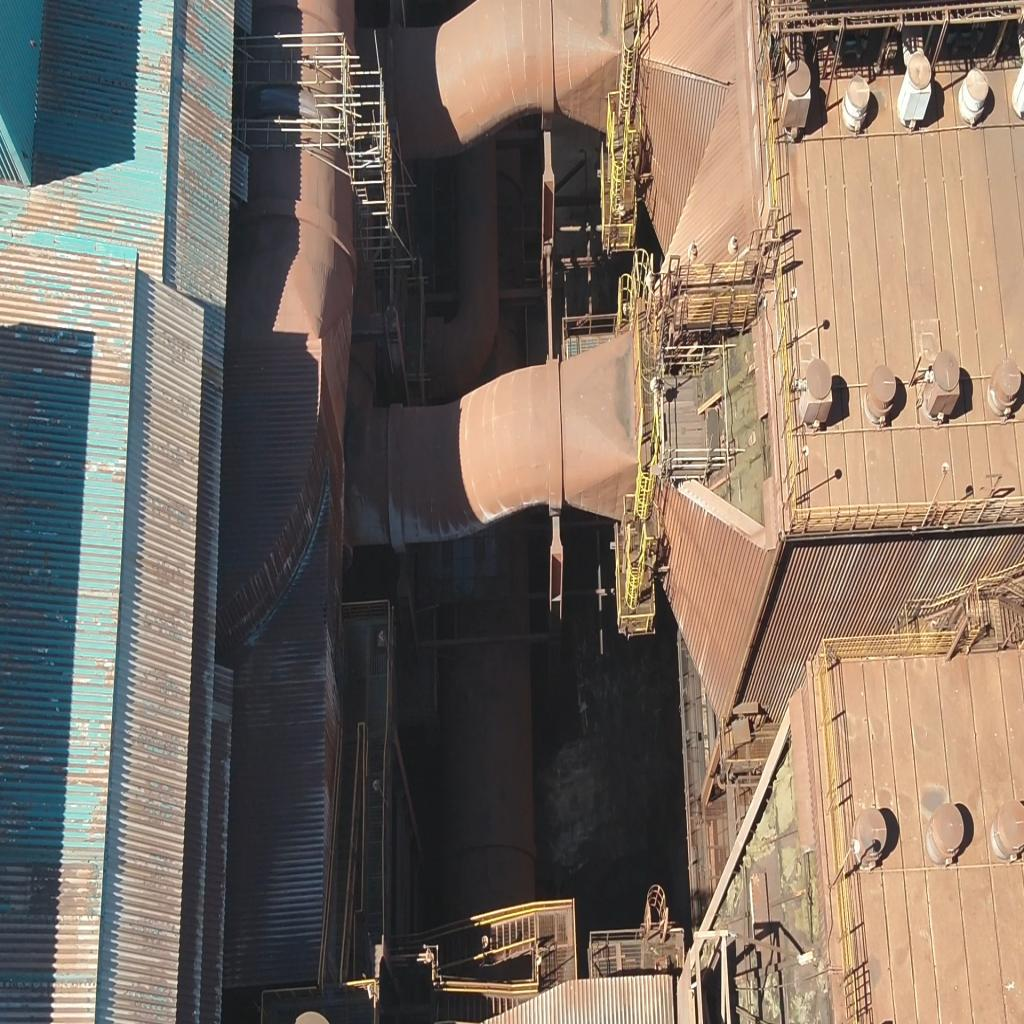Failures: (715, 771, 832, 1021), (677, 314, 776, 524)
